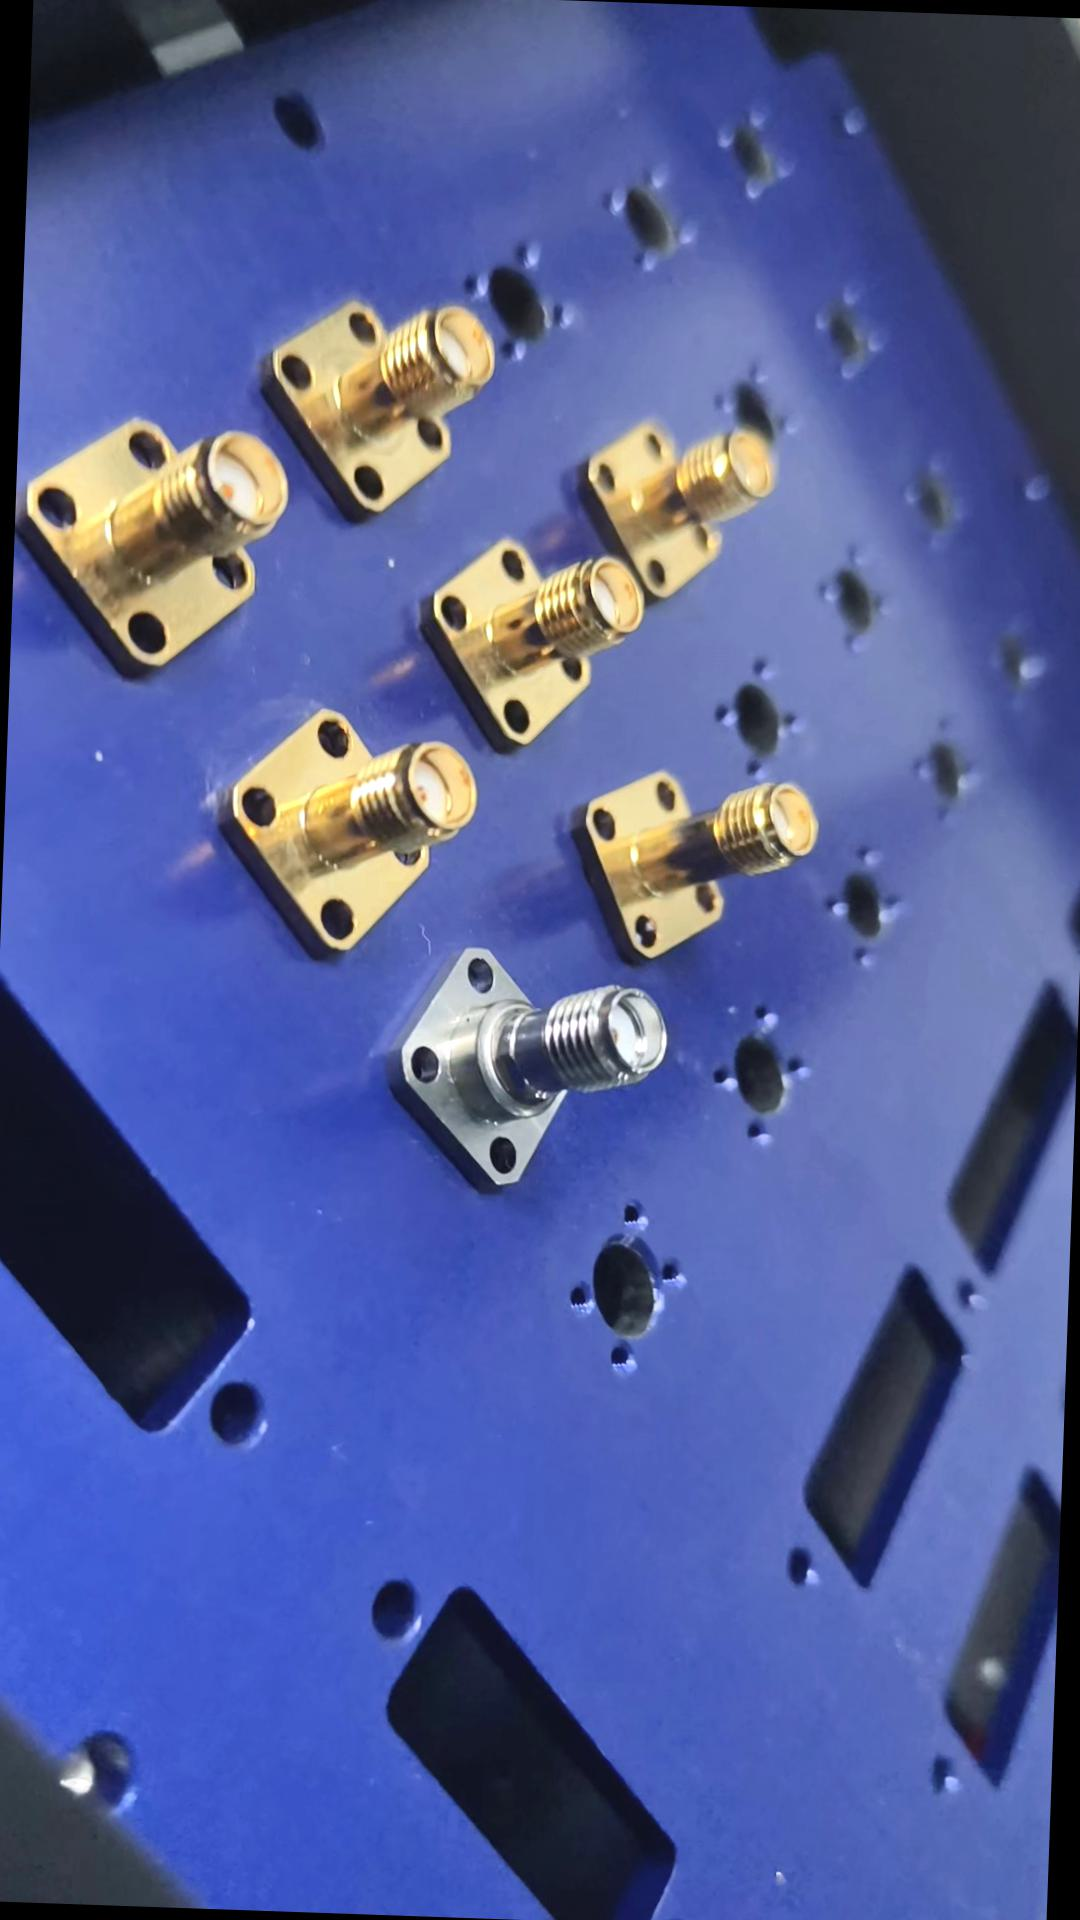SMA: (16, 405, 307, 679), (386, 924, 675, 1189), (214, 690, 477, 957), (260, 274, 495, 525), (582, 749, 828, 967), (422, 509, 626, 750), (579, 407, 786, 615)
